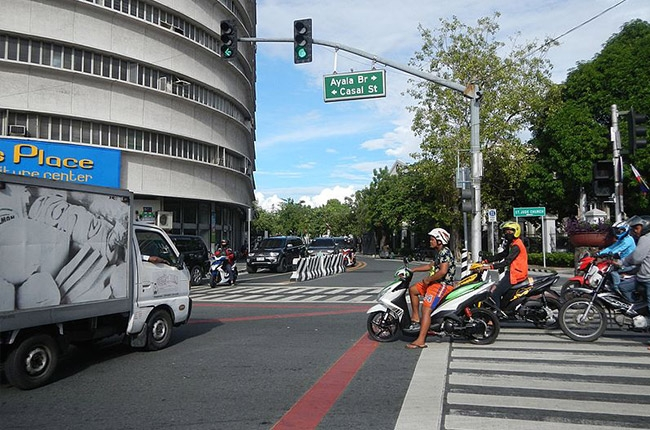pedestrian lane: (395, 310, 650, 430), (193, 285, 380, 305)
vehicle: (1, 174, 193, 387), (244, 235, 308, 274)
